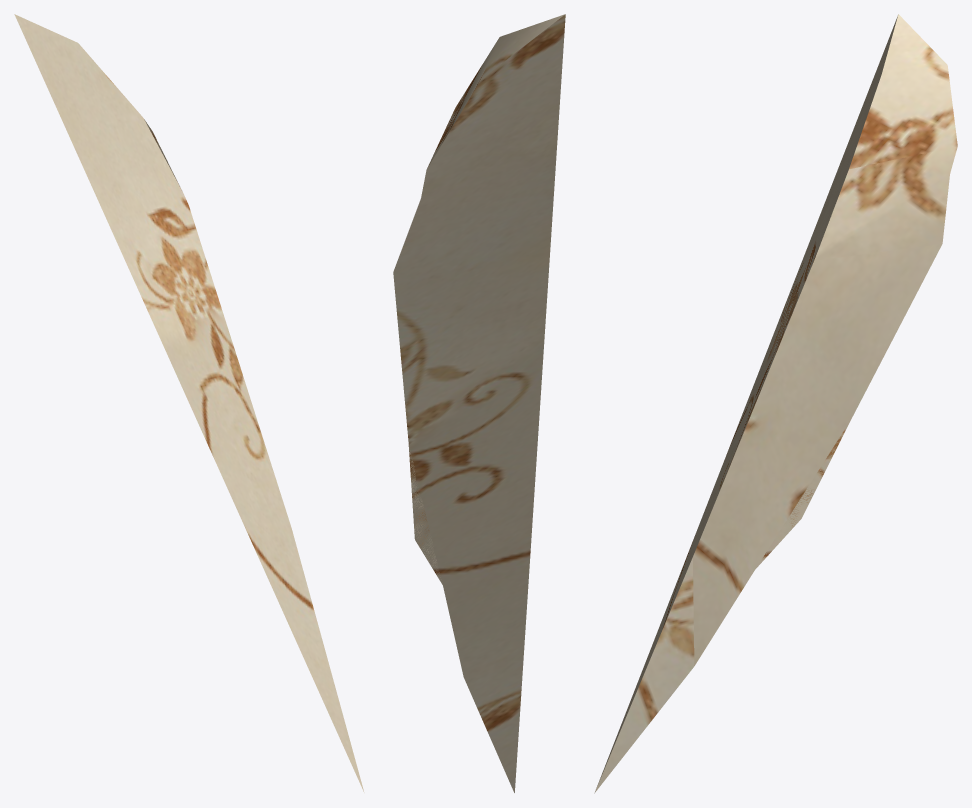
3 views of the same model, side by side, from view 1: azimuth 30°, elevation 25°; view 2: azimuth 150°, elevation 25°; view 3: azimuth 270°, elevation 25° (orthographic). The views are drawn at different scales.
Parts seen in each view (by area): view 1: Cylinder_cell.010; view 2: Cylinder_cell.010; view 3: Cylinder_cell.010.
Part boxes in pixels (bbox=[...]): Cylinder_cell.010: bbox=[14, 14, 364, 792]; Cylinder_cell.010: bbox=[393, 14, 565, 792]; Cylinder_cell.010: bbox=[594, 14, 957, 793].
Size of the model in its own units: 0.1016 by 0.3576 by 0.1711.
1 material, 1 textured.
